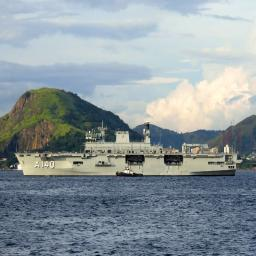Portanaves: (14, 118, 240, 180)
